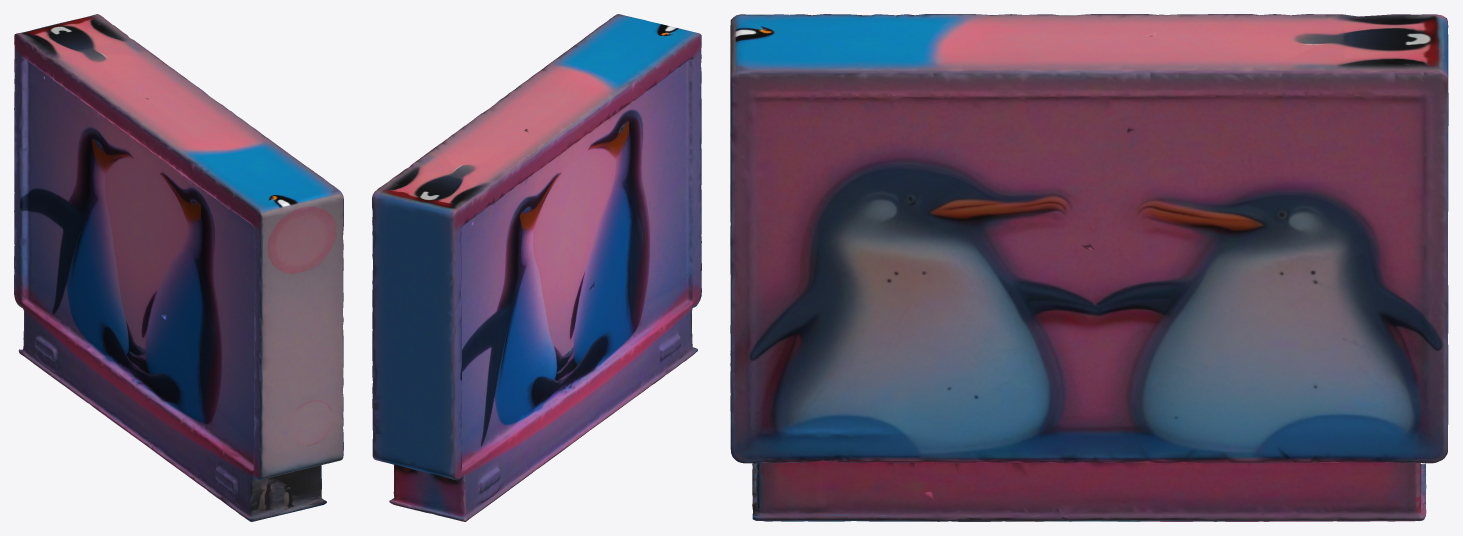
The picture shows the model from 3 angles, left to right: view 1: azimuth 30°, elevation 25°; view 2: azimuth 150°, elevation 25°; view 3: azimuth 270°, elevation 25°; orthographic projection. The views are drawn at different scales.
Parts seen in each view (by area): view 1: Mesh_0; view 2: Mesh_0; view 3: Mesh_0.
Part boxes in pixels (x1=…): Mesh_0: x1=14, y1=14, x2=343, y2=521; Mesh_0: x1=372, y1=14, x2=701, y2=521; Mesh_0: x1=730, y1=14, x2=1448, y2=521.
Bounding box in the file's own units: 40.67 × 142 × 200.
1 material, 1 textured.
